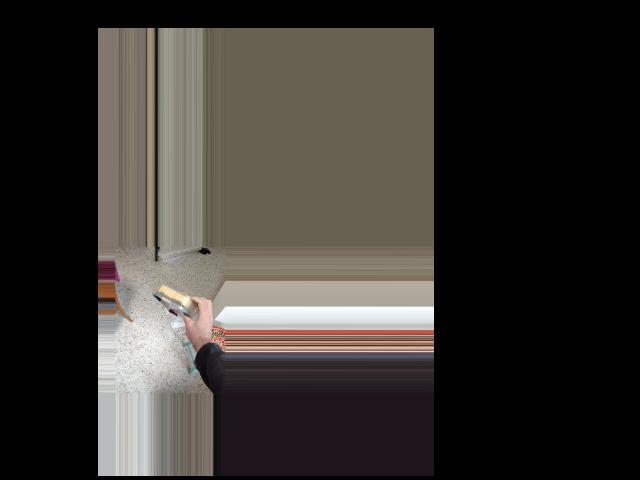cheese: (150, 274, 221, 331)
